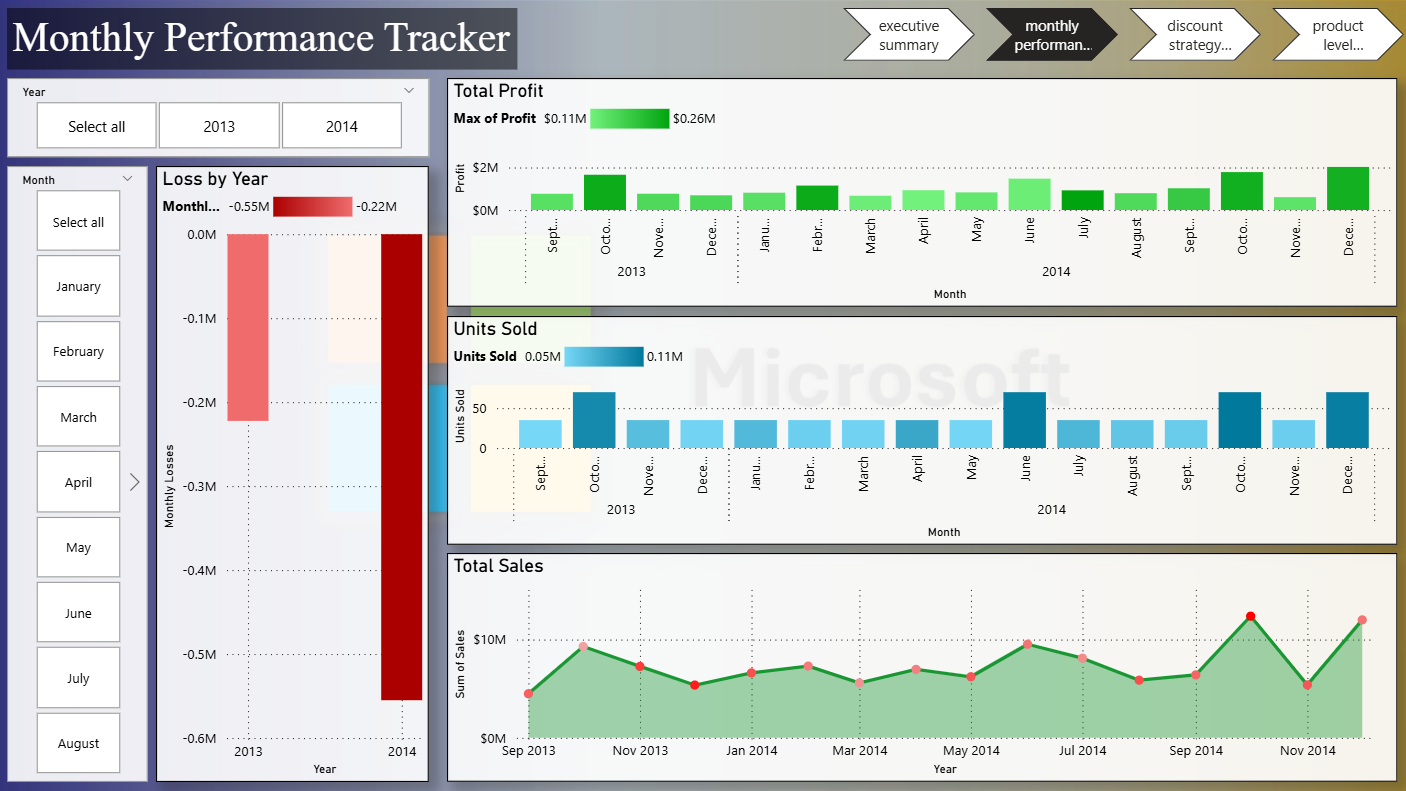

The dashboard page shown, as its layout file describes it:
{"tool":"powerbi","page":{"name":"monthly performance tracker","canvas":[1280,720],"ordinal":1},"visuals":[{"type":"slicer","fields":{"Values":["Financial Sample.Year"]},"box":[8,72,384,72],"z":0},{"type":"pageNavigator","box":[768,8,512,48],"z":1000},{"type":"textbox","box":[8,8,464,56],"z":2000},{"type":"columnChart","title":"Total Profit ","fields":{"Category":["Financial Sample.Date.Variation.Date Hierarchy.Year","Financial Sample.Date.Variation.Date Hierarchy.Month"],"Y":["Sum(Financial Sample.Profit)"]},"box":[408,72,864,208],"z":3000},{"type":"columnChart","title":"Units Sold ","fields":{"Category":["Financial Sample.Date.Variation.Date Hierarchy.Year","Financial Sample.Date.Variation.Date Hierarchy.Month"],"Y":["CountNonNull(Financial Sample.Units Sold)"]},"box":[408,288,864,208],"z":4000},{"type":"slicer","fields":{"Values":["Financial Sample.Date.Variation.Date Hierarchy.Month"]},"box":[8,152,128,560],"z":5000},{"type":"lineChart","title":"Total Sales ","fields":{"Y":["Sum(Financial Sample. Sales)"],"Category":["Financial Sample.Date.Variation.Date Hierarchy.Year","Financial Sample.Date.Variation.Date Hierarchy.Month"]},"box":[408,504,864,208],"z":6000},{"type":"columnChart","title":"Loss by Year","fields":{"Category":["Financial Sample.Date.Variation.Date Hierarchy.Year"],"Y":["Financial Sample.Monthly Losses"]},"box":[144,152,248,560],"z":7000}]}

Visuals, with their boxes in screenshot pixels (x1, y1, x2, y2), scaled from the page's 1280x720 canvas onto the 1406x791 screenshot:
slicer - Financial Sample.Year: [x1=9, y1=79, x2=431, y2=158]
pageNavigator: [x1=844, y1=9, x2=1405, y2=62]
textbox: [x1=9, y1=9, x2=518, y2=70]
"Total Profit " columnChart: [x1=448, y1=79, x2=1397, y2=308]
"Units Sold " columnChart: [x1=448, y1=316, x2=1397, y2=545]
slicer - Financial Sample.Date.Variation.Date Hierarchy.Month: [x1=9, y1=167, x2=149, y2=782]
"Total Sales " lineChart: [x1=448, y1=554, x2=1397, y2=782]
"Loss by Year" columnChart: [x1=158, y1=167, x2=431, y2=782]
